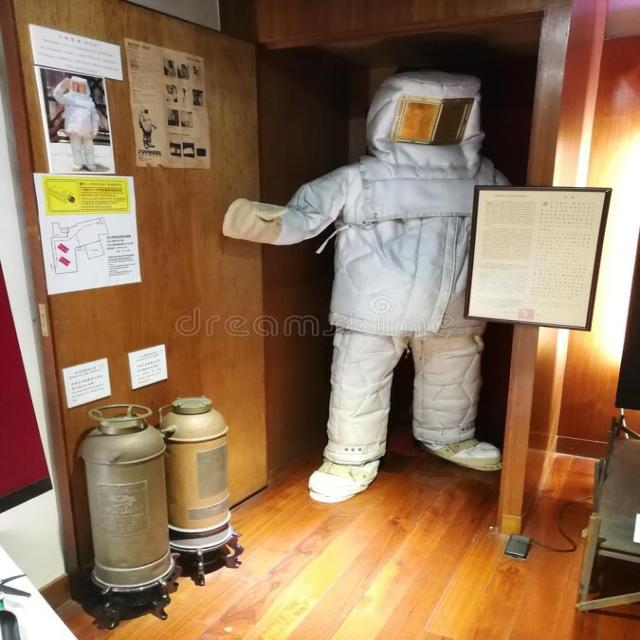fire_extinguisher: (68, 396, 180, 600), (142, 391, 248, 567)
